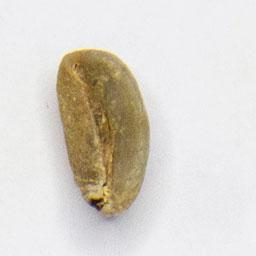longberry: (54, 45, 153, 220)
